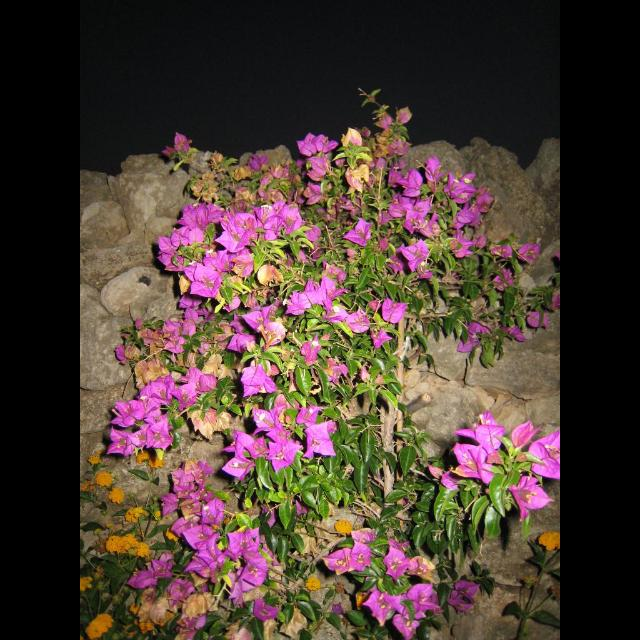Flower: (80, 105, 560, 639), (294, 410, 344, 462)
